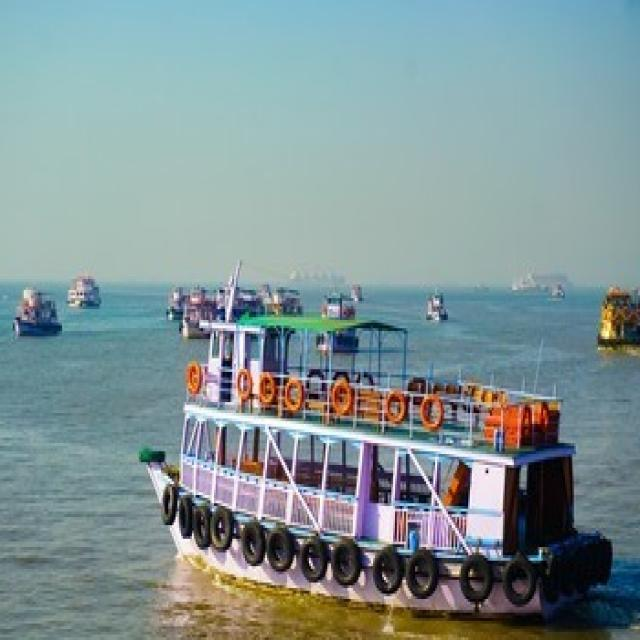houseboat: (147, 283, 609, 618), (11, 262, 60, 344), (591, 276, 640, 347), (58, 254, 102, 301), (422, 285, 461, 330)
